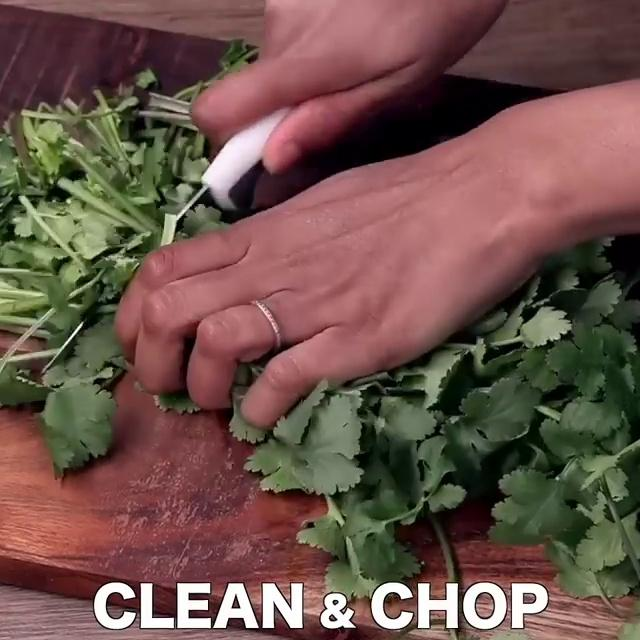cilantro: (412, 292, 640, 588)
